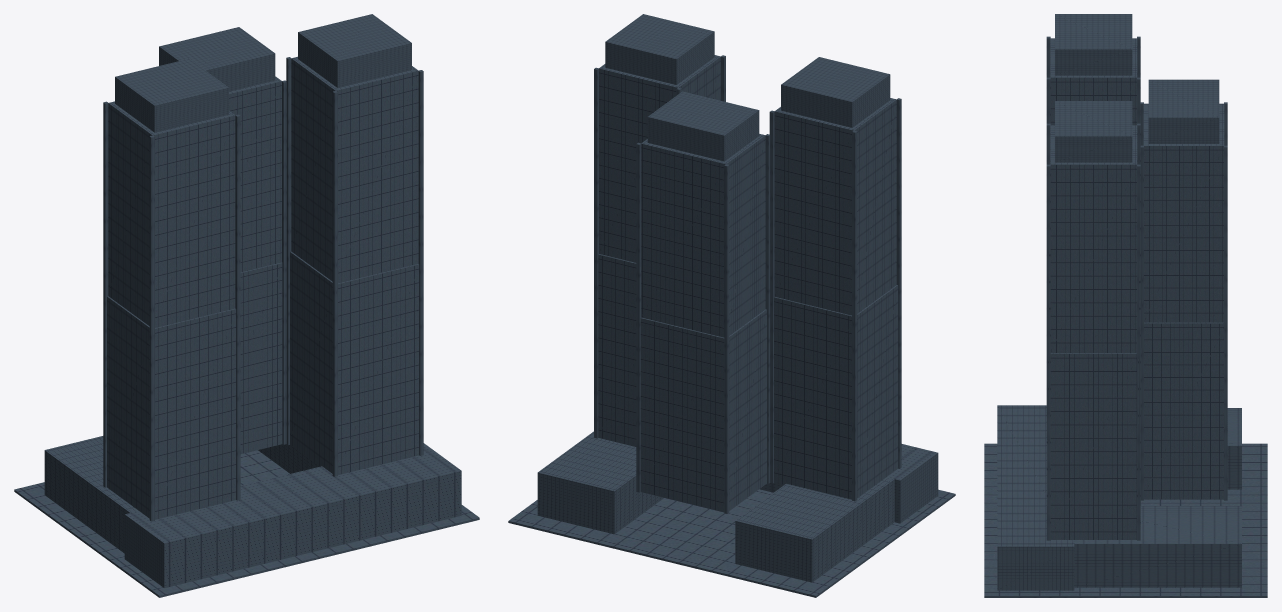
3 views of the same model, side by side, from view 1: azimuth 30°, elevation 25°; view 2: azimuth 150°, elevation 25°; view 3: azimuth 270°, elevation 25° (orthographic). The views are drawn at different scales.
Visible parts, largest first — view 1: 28185_01_21998_008_02_lod2__tower_mass, 28185_01_21998_008_04_lod2__podium_mass, 28185_01_21998_008_03_lod2__spandrel_crown, 28185_01_21998_008_01_lod2__plaza_base; view 2: 28185_01_21998_008_02_lod2__tower_mass, 28185_01_21998_008_03_lod2__spandrel_crown, 28185_01_21998_008_04_lod2__podium_mass, 28185_01_21998_008_01_lod2__plaza_base; view 3: 28185_01_21998_008_02_lod2__tower_mass, 28185_01_21998_008_04_lod2__podium_mass, 28185_01_21998_008_03_lod2__spandrel_crown, 28185_01_21998_008_01_lod2__plaza_base.
Boxes of the visible parts, left/top/right/bottom form: 28185_01_21998_008_02_lod2__tower_mass: left=107, top=56, right=419, bottom=519; 28185_01_21998_008_04_lod2__podium_mass: left=44, top=436, right=461, bottom=587; 28185_01_21998_008_03_lod2__spandrel_crown: left=103, top=14, right=423, bottom=521; 28185_01_21998_008_01_lod2__plaza_base: left=14, top=450, right=479, bottom=597; 28185_01_21998_008_02_lod2__tower_mass: left=598, top=55, right=898, bottom=512; 28185_01_21998_008_03_lod2__spandrel_crown: left=594, top=14, right=901, bottom=513; 28185_01_21998_008_04_lod2__podium_mass: left=537, top=431, right=938, bottom=582; 28185_01_21998_008_01_lod2__plaza_base: left=508, top=489, right=955, bottom=597; 28185_01_21998_008_02_lod2__tower_mass: left=1050, top=38, right=1224, bottom=539; 28185_01_21998_008_04_lod2__podium_mass: left=997, top=405, right=1241, bottom=590; 28185_01_21998_008_03_lod2__spandrel_crown: left=1046, top=14, right=1227, bottom=540; 28185_01_21998_008_01_lod2__plaza_base: left=984, top=443, right=1267, bottom=597.
Bounding box in the file's own units: 56 × 76.5 × 44.
4 materials, 4 textured.
